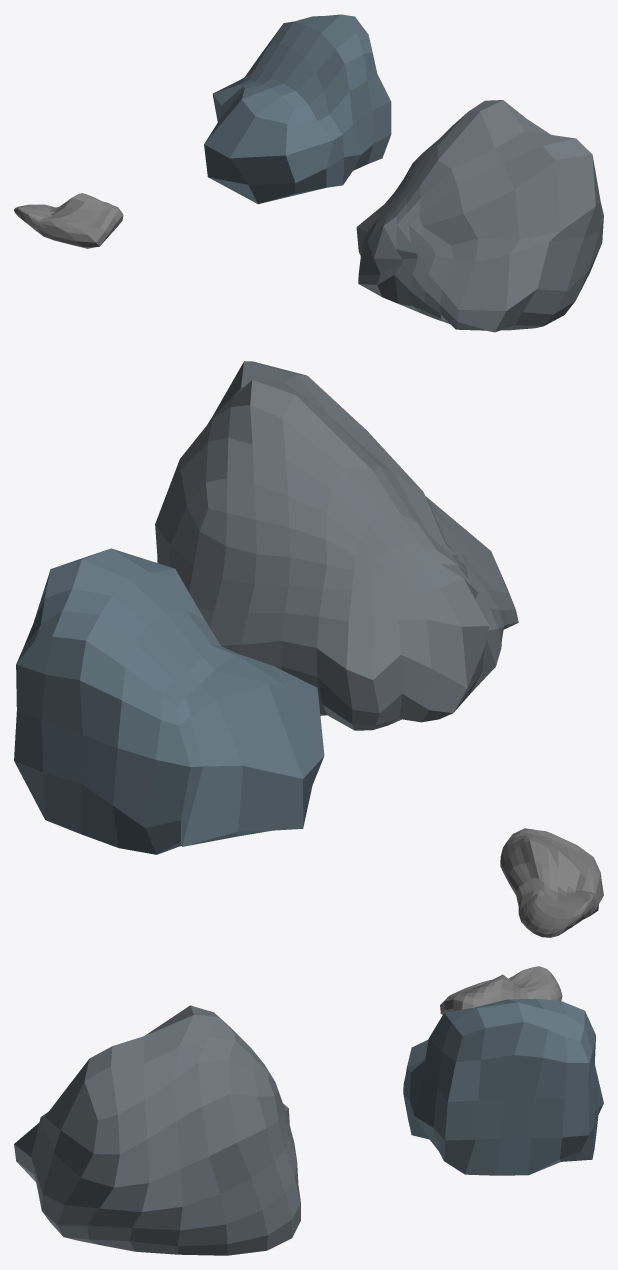
The model's file is rocks 1.fbx.
3 views of the same model, one above another, from view 1: azimuth 30°, elevation 25°; view 2: azimuth 150°, elevation 25°; view 3: azimuth 270°, elevation 25° (orthographic). The views are drawn at different scales.
Parts seen in each view (by area): view 1: Cube.009, Cube.008, Cube.010; view 2: Cube.009, Cube.008, Cube.010; view 3: Cube.009, Cube.008, Cube.010.
Boxes of the visible parts, box(x1,y1,x2,y2) form: Cube.009: box(356, 100, 603, 332); Cube.008: box(204, 14, 391, 204); Cube.010: box(14, 193, 123, 248); Cube.009: box(155, 361, 518, 730); Cube.008: box(14, 548, 324, 854); Cube.010: box(500, 828, 603, 937); Cube.009: box(14, 1005, 300, 1255); Cube.008: box(403, 998, 603, 1175); Cube.010: box(440, 966, 562, 1014).
Bounding box in the file's own units: 714 × 309 × 718.
